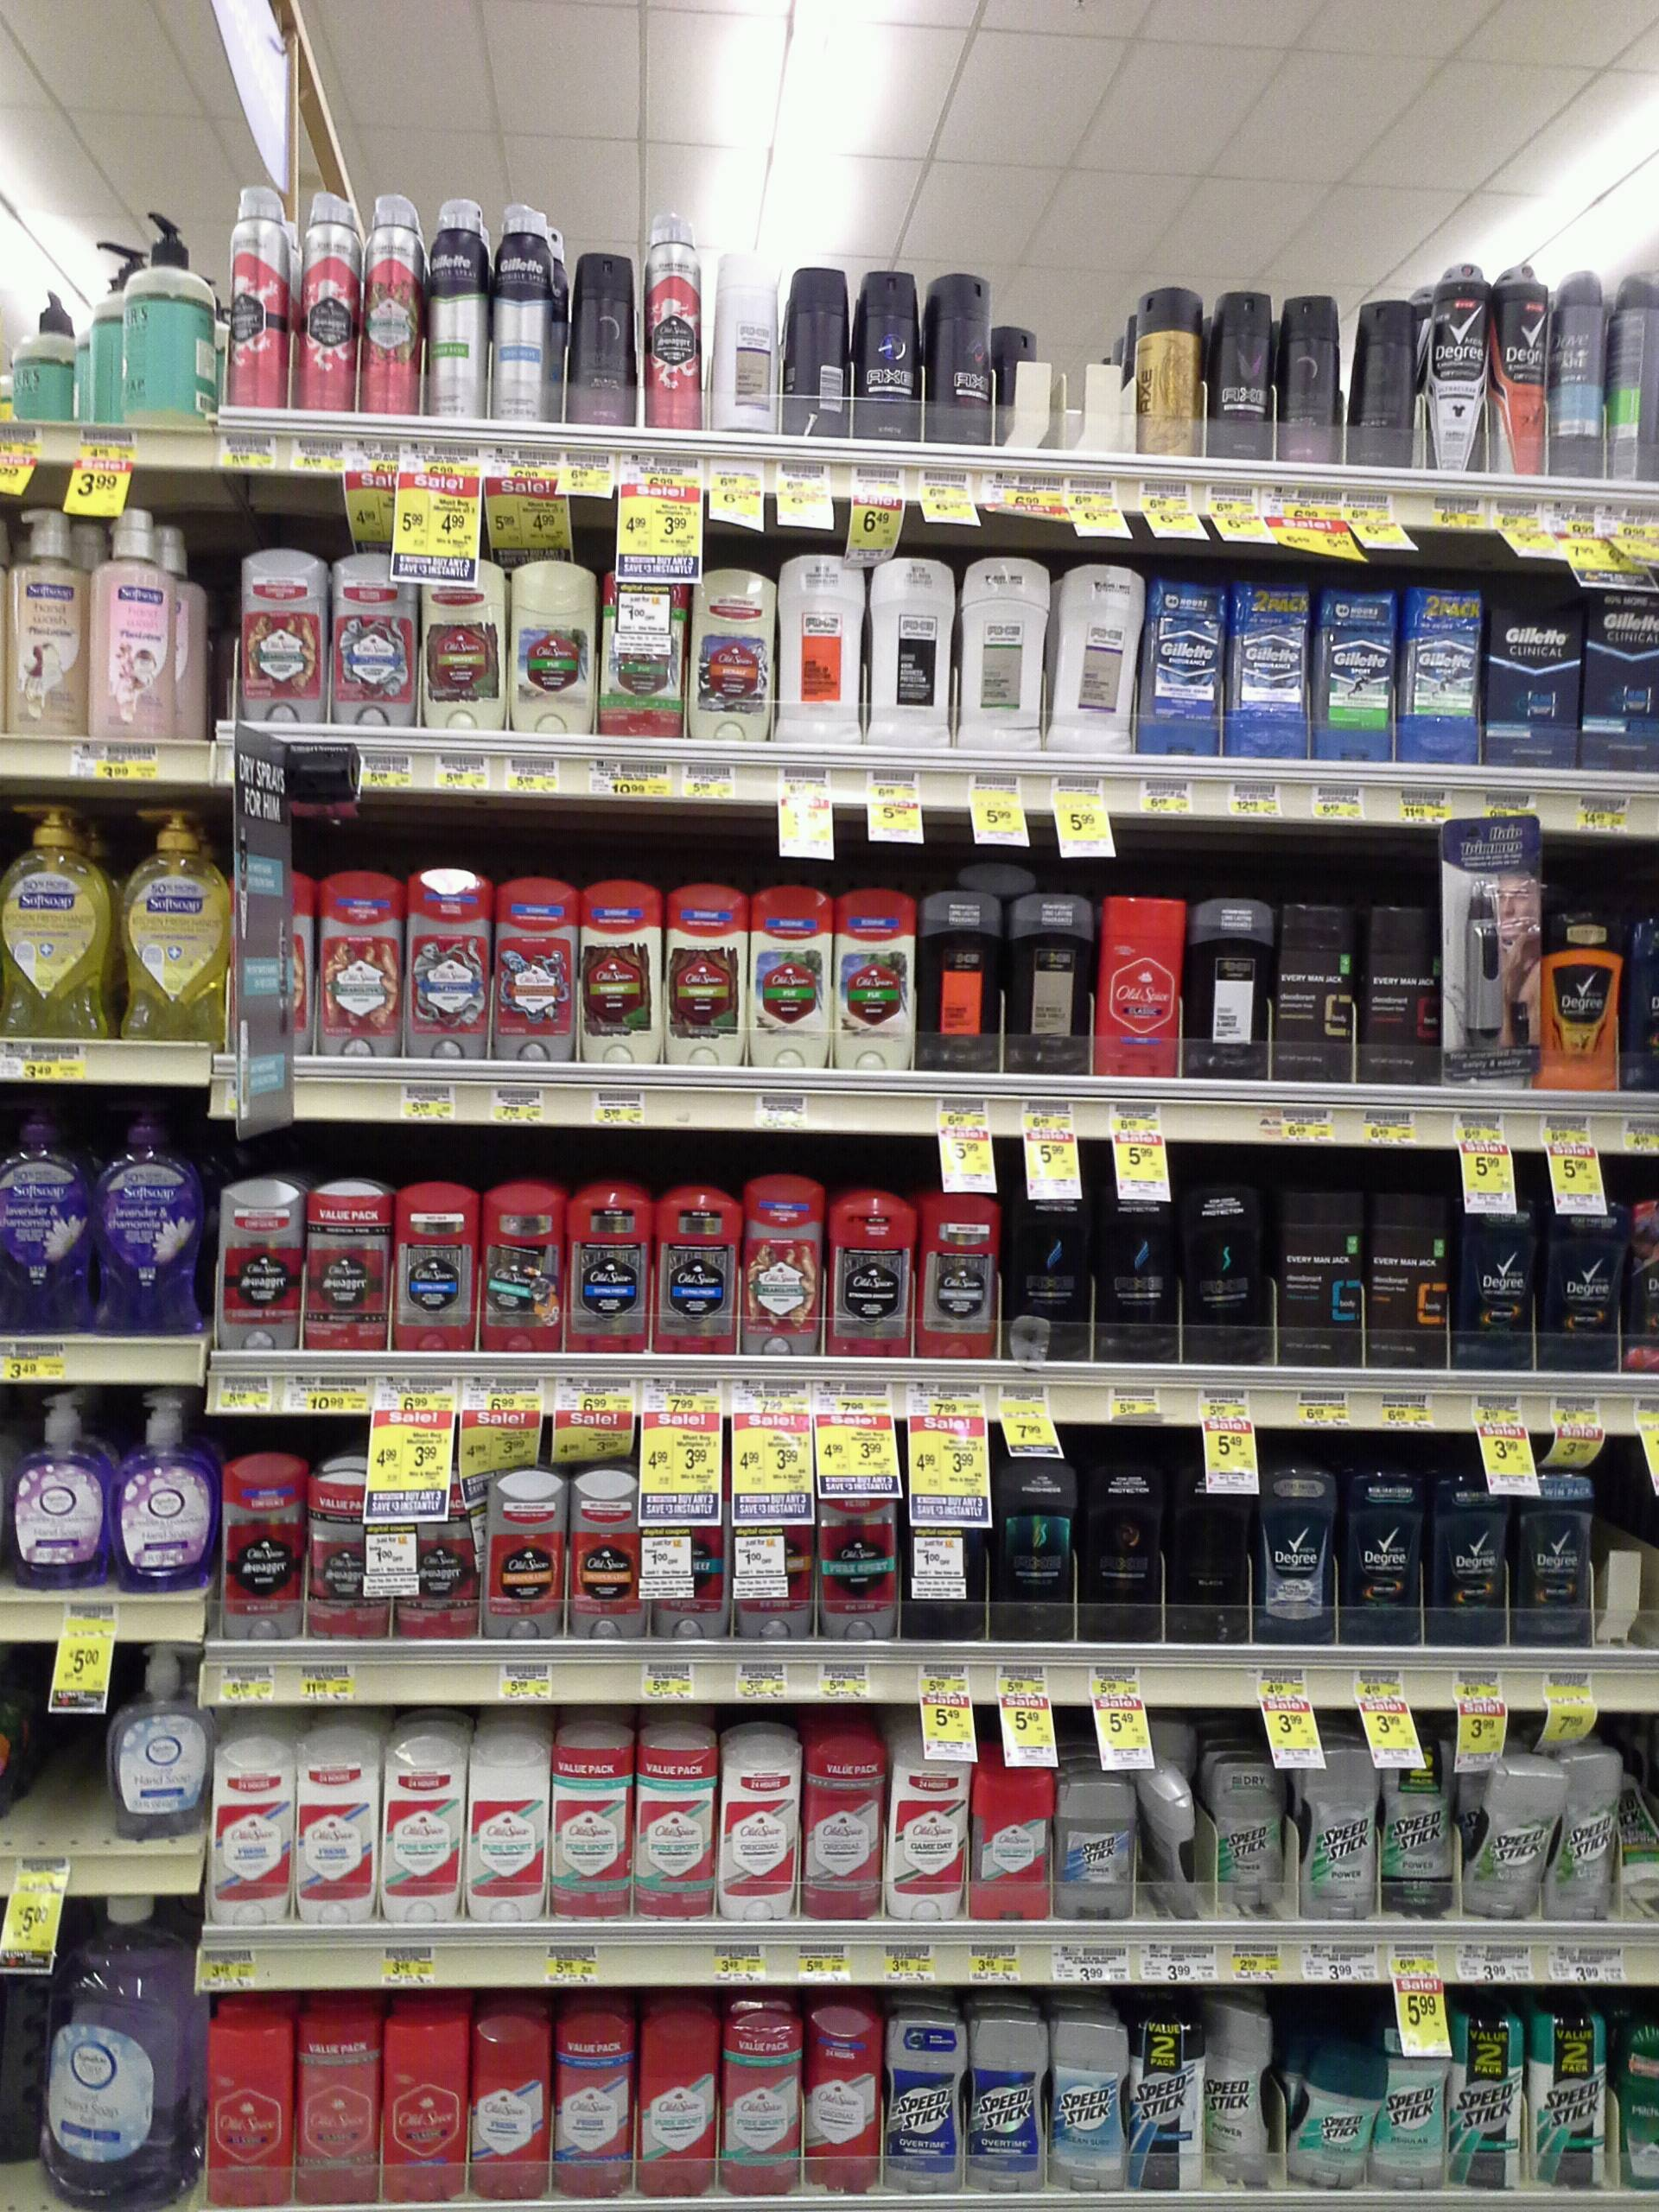Out-of-stock: (5, 1642, 112, 1858)
